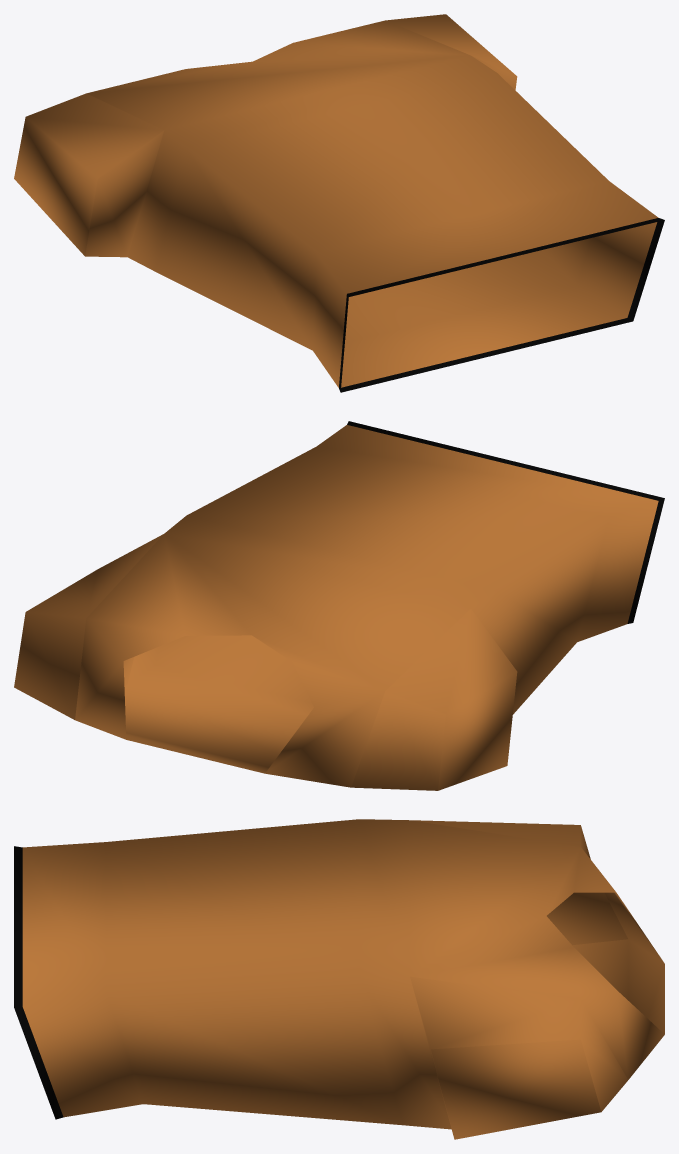
File: copper_plate_body.glb
3 views of the same model, one above another, from view 1: azimuth 30°, elevation 25°; view 2: azimuth 150°, elevation 25°; view 3: azimuth 270°, elevation 25° (orthographic). The views are drawn at different scales.
Visible parts, largest first — view 1: copper_plate_body; view 2: copper_plate_body; view 3: copper_plate_body.
Part boxes in pixels (x1=…): copper_plate_body: x1=14, y1=14, x2=664, y2=392; copper_plate_body: x1=14, y1=421, x2=664, y2=790; copper_plate_body: x1=14, y1=819, x2=664, y2=1139.
Bounding box in the file's own units: 0.5399 × 0.1706 × 0.6865.
